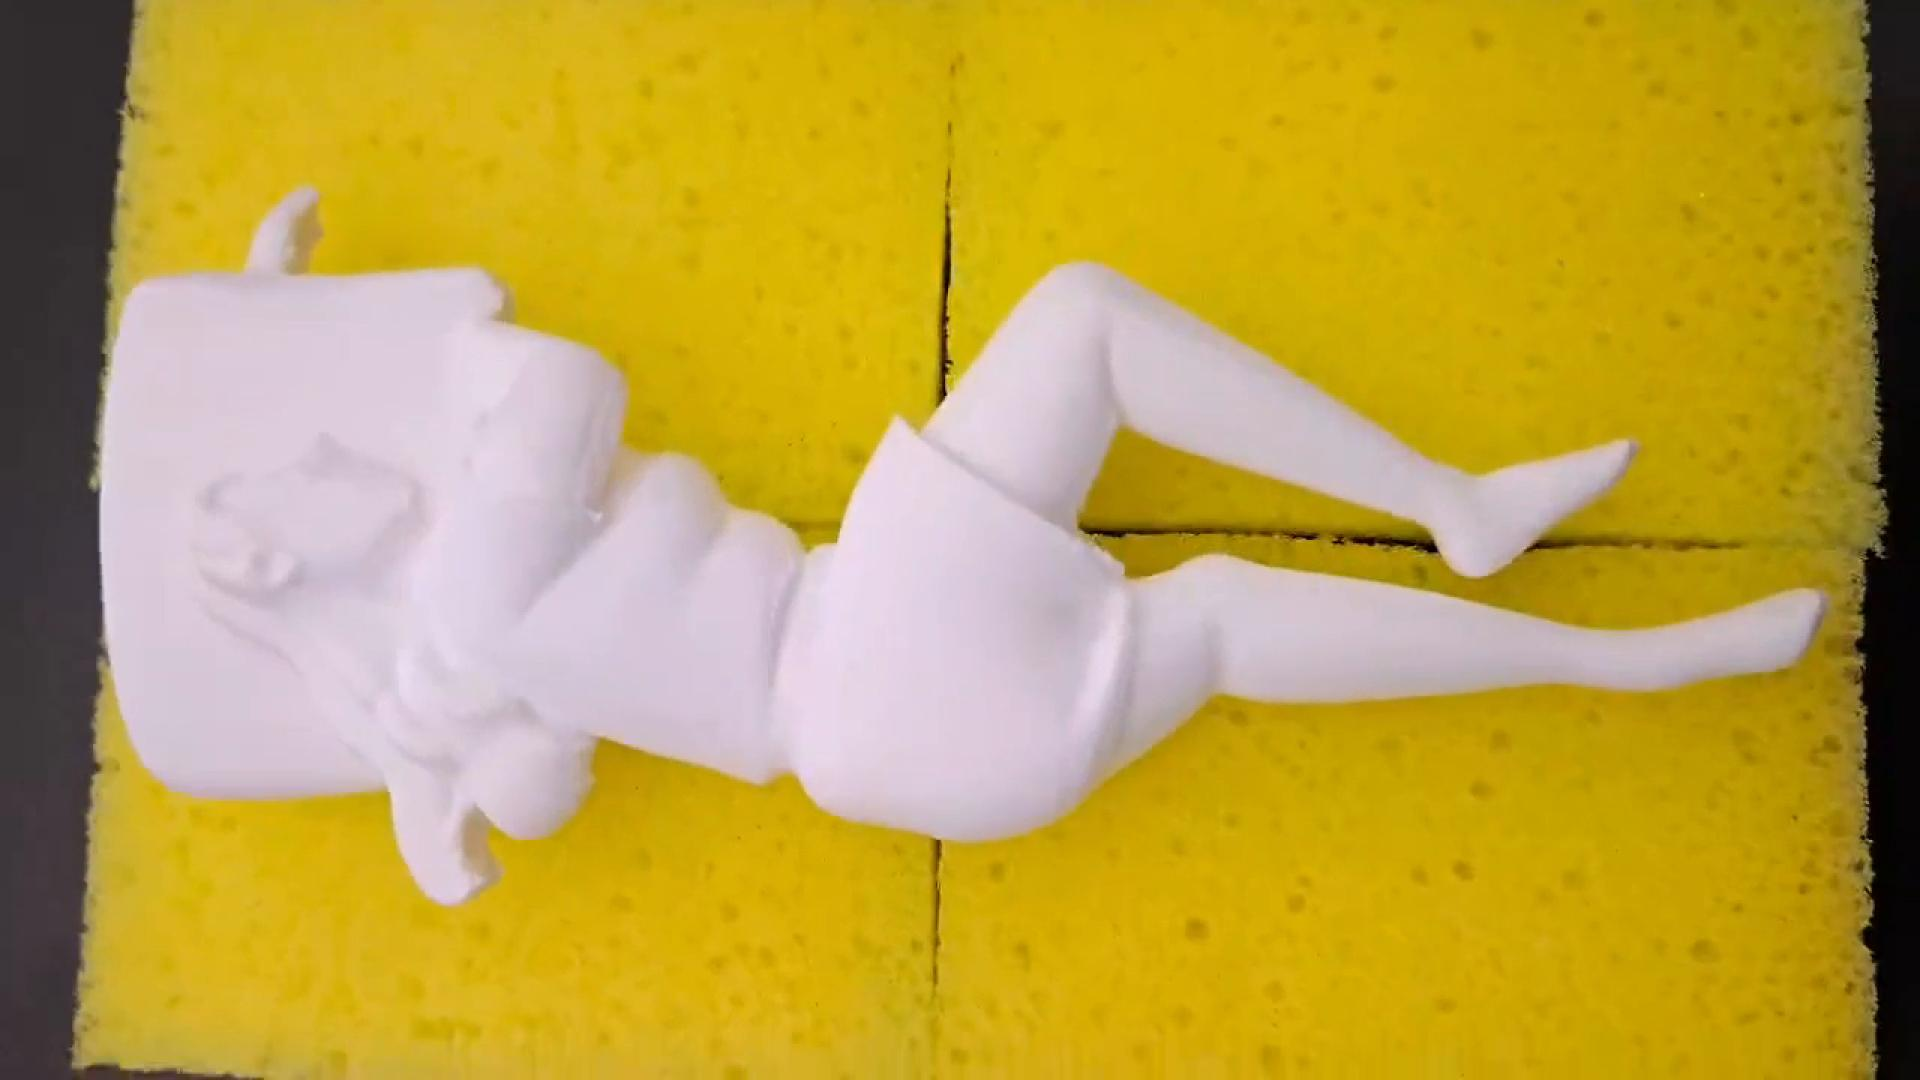Good-style: (17, 177, 1855, 918)
